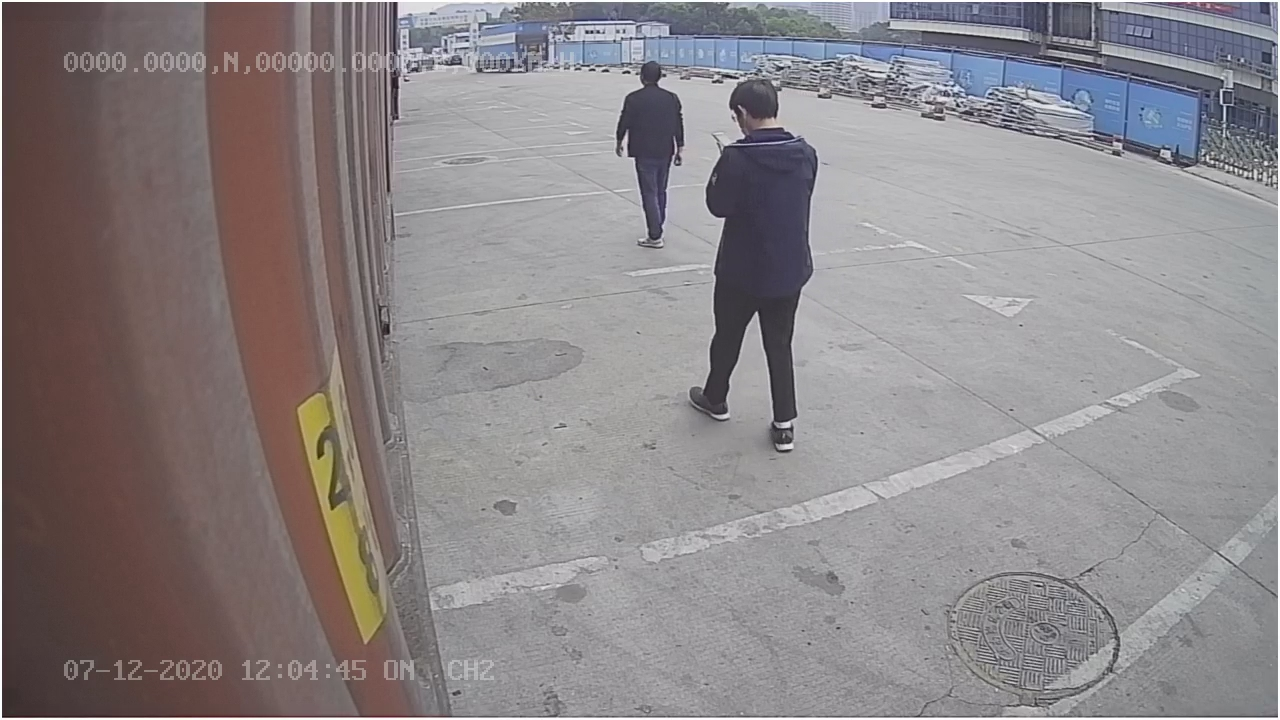person: (684, 80, 827, 453)
